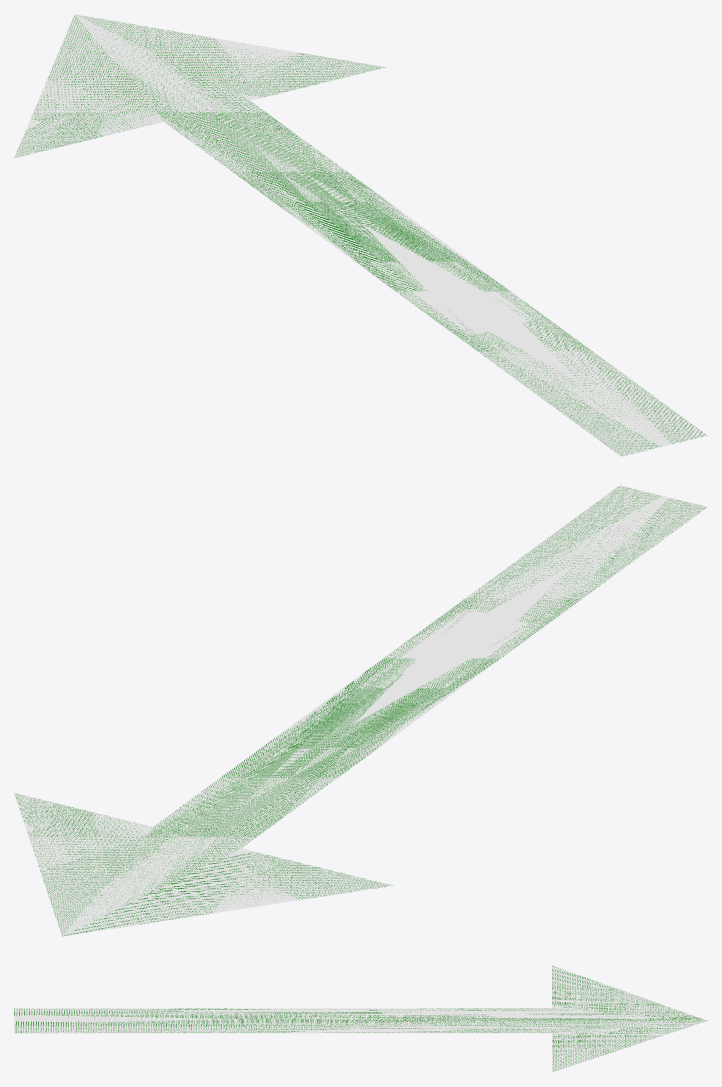
Rendered from greenarrow.dae.
The picture shows the model from 3 angles, top to bottom: view 1: azimuth 30°, elevation 25°; view 2: azimuth 150°, elevation 25°; view 3: azimuth 270°, elevation 25°; orthographic projection. The views are drawn at different scales.
Visible parts, largest first — view 1: SketchUp; view 2: SketchUp; view 3: SketchUp.
Part boxes in pixels (box(x1,y1,x2,y2)): SketchUp: box(14, 14, 707, 456); SketchUp: box(14, 485, 707, 936); SketchUp: box(14, 965, 707, 1072).
Size of the model in its own units: 168 by 462 by 0.
